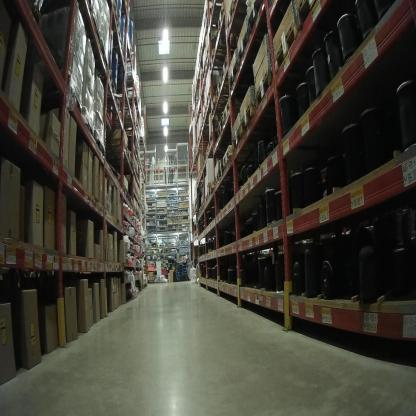pallet: (82, 107, 129, 200), (36, 78, 83, 116), (274, 24, 298, 74), (231, 126, 276, 152), (240, 105, 275, 138), (246, 1, 277, 32), (254, 71, 283, 104), (224, 142, 261, 167), (20, 1, 49, 31), (77, 44, 110, 70), (78, 13, 103, 45), (228, 59, 249, 93), (221, 97, 243, 127), (219, 51, 240, 82), (106, 137, 132, 160), (214, 79, 242, 100), (212, 96, 239, 117), (233, 31, 254, 55), (226, 5, 243, 34), (209, 49, 226, 76), (107, 158, 135, 174), (92, 127, 105, 159), (105, 64, 118, 95), (103, 90, 122, 111), (111, 30, 126, 55), (216, 117, 233, 139), (104, 5, 120, 26), (213, 174, 245, 184), (203, 10, 216, 32), (208, 132, 225, 148), (216, 5, 225, 35), (218, 162, 229, 179), (124, 189, 133, 207), (202, 105, 208, 125), (205, 50, 212, 67), (199, 63, 205, 82), (207, 87, 212, 107), (208, 189, 219, 198), (203, 190, 209, 205), (209, 181, 216, 190)
